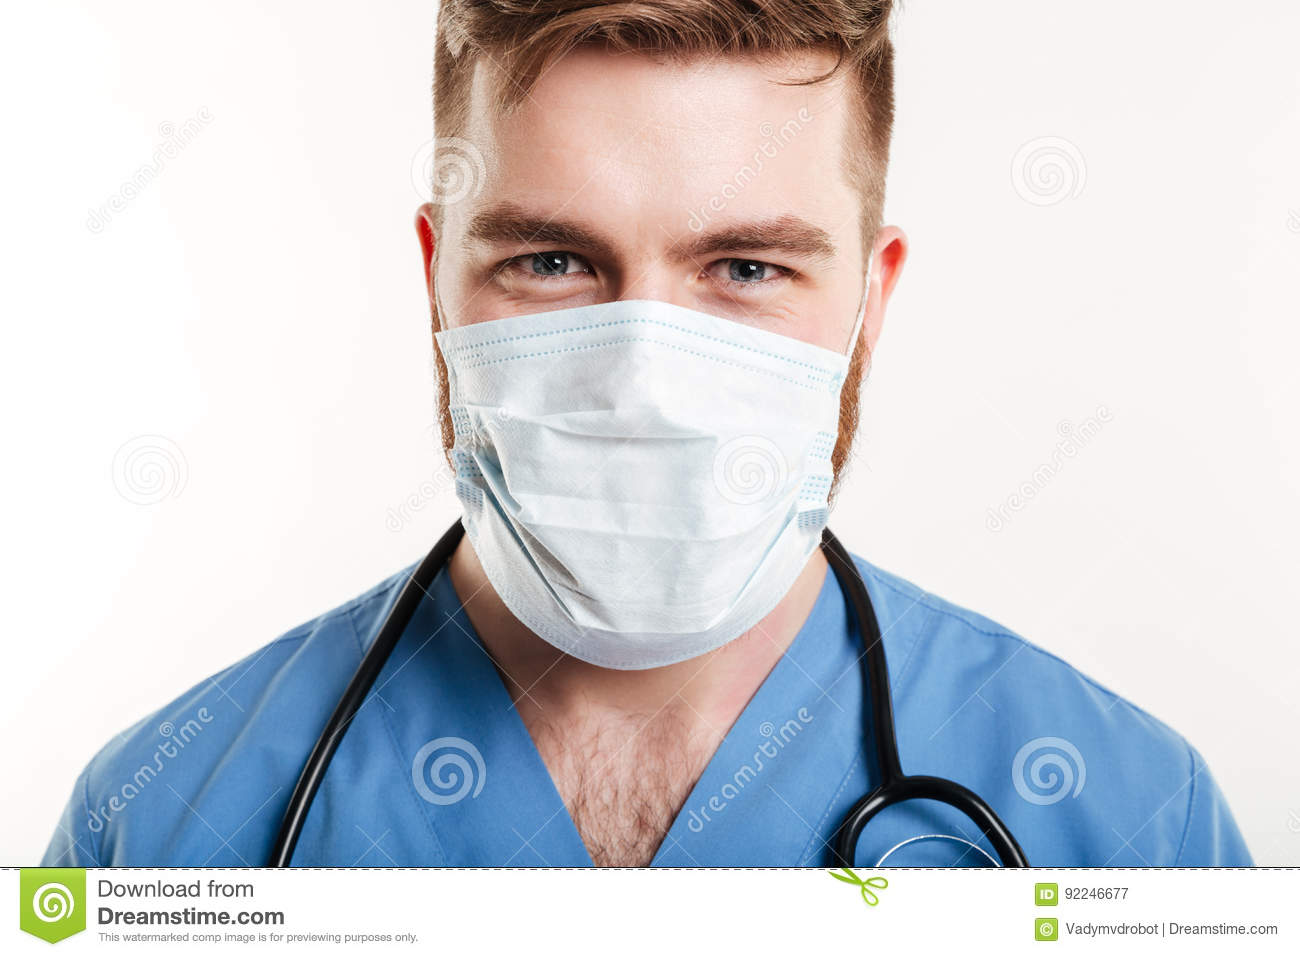mask: (431, 321, 848, 663)
